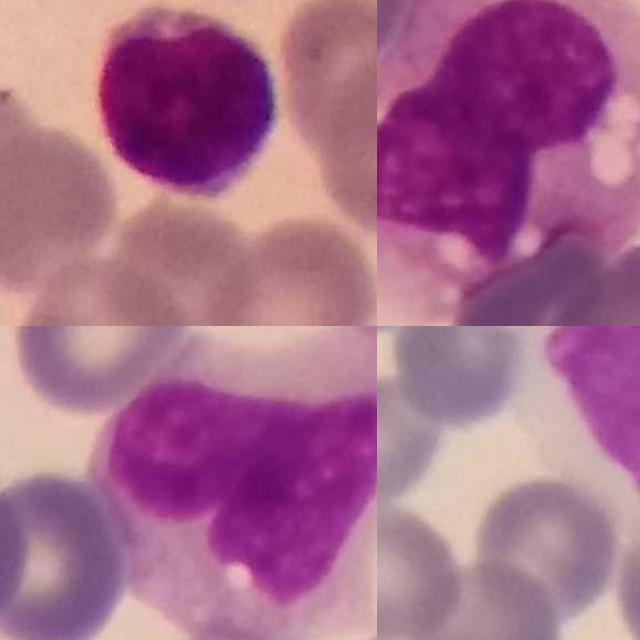Lymphocyte: (97, 4, 277, 204)
Monocyte: (377, 0, 640, 311), (117, 326, 377, 640), (547, 326, 640, 549)
